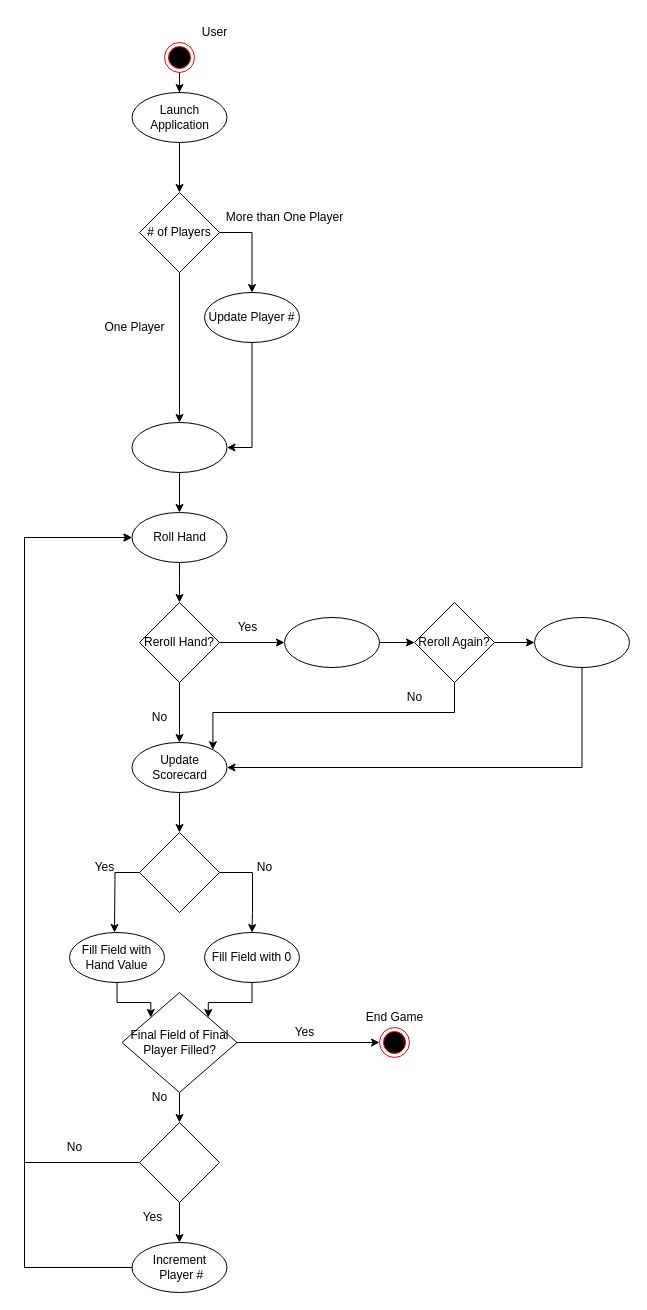
Some shapes in this 647 by 1310 pixel diagram are drawn without their labels. Each missing label, with the box of its shape:
Player count > 0?: (138, 1122, 220, 1202)
Reroll Chose Dice Final: (534, 616, 630, 668)
Reroll Chosen Dice: (284, 616, 380, 668)
Start Game: (131, 422, 227, 472)
Valid Field?: (138, 832, 220, 912)
